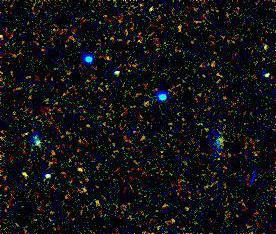star: (65, 161, 95, 191)
